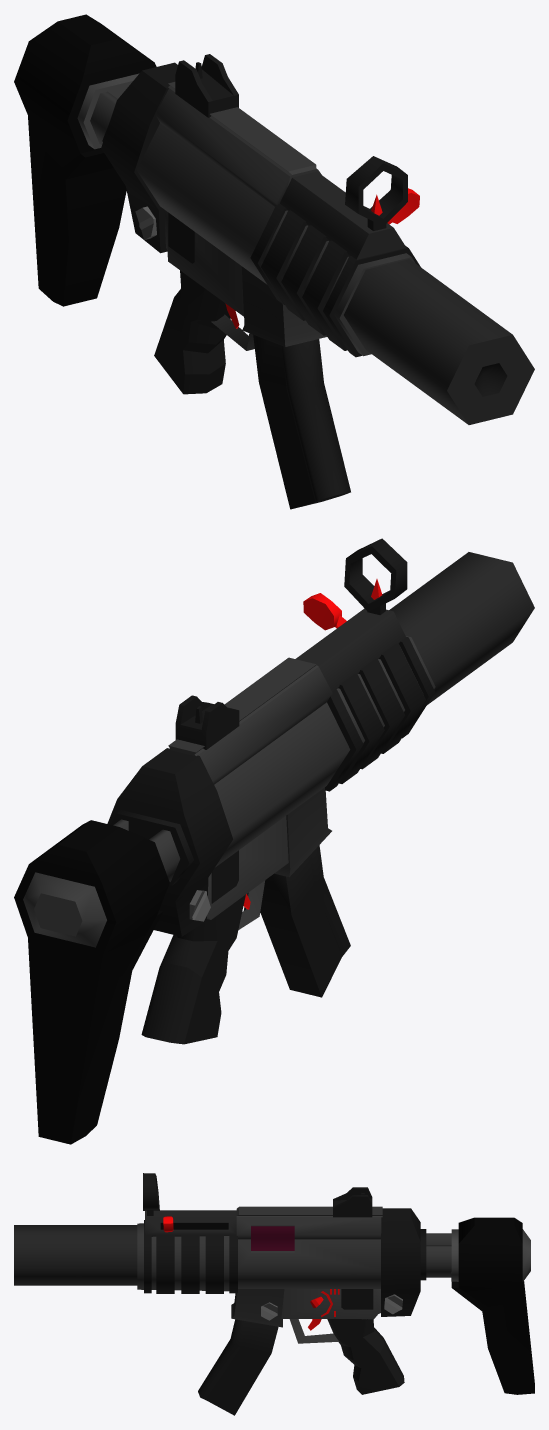
The model's file is MiniGun01.glb.
3 views of the same model, one above another, from view 1: azimuth 30°, elevation 25°; view 2: azimuth 150°, elevation 25°; view 3: azimuth 270°, elevation 25° (orthographic). The views are drawn at different scales.
Visible parts, largest first — view 1: MiniGun; view 2: MiniGun; view 3: MiniGun.
Part boxes in pixels (x1,y1,x2,y2): MiniGun: [14, 14, 534, 509]; MiniGun: [14, 538, 534, 1144]; MiniGun: [14, 1173, 534, 1415].
Bounding box in the file's own units: 0.1707 × 0.5971 × 1.18.
Materials: 1 (1 with a texture image).
